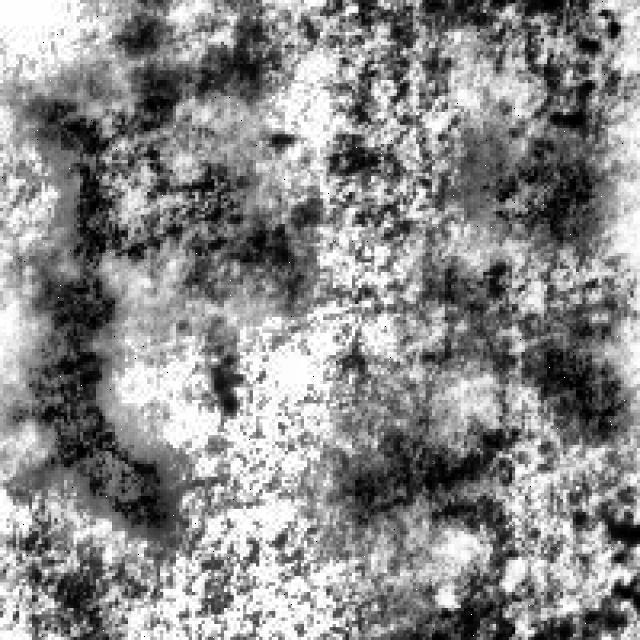Scratches: (10, 0, 188, 547), (93, 102, 301, 310), (316, 406, 518, 541), (460, 122, 614, 260), (502, 300, 634, 452)
